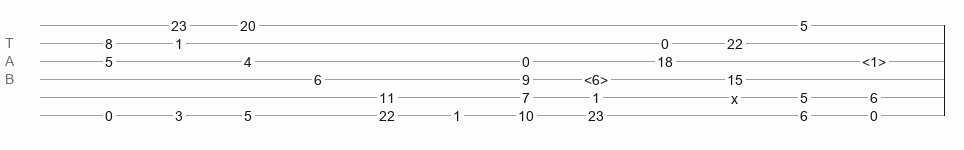0: (105, 108, 113, 118), (522, 54, 530, 64), (661, 36, 669, 46), (870, 108, 878, 118)
1: (175, 36, 183, 46), (453, 108, 461, 118), (592, 90, 600, 100)
10: (518, 108, 534, 118)
11: (379, 90, 395, 100)
15: (727, 72, 743, 82)
18: (657, 54, 673, 64)
20: (240, 18, 256, 28)
22: (379, 108, 395, 118), (727, 36, 743, 46)
23: (171, 18, 187, 28), (588, 108, 604, 118)
3: (175, 108, 183, 118)
4: (244, 54, 252, 64)
5: (105, 54, 113, 64), (244, 108, 252, 118), (800, 18, 808, 28), (800, 90, 808, 100)
6: (314, 72, 322, 82), (800, 108, 808, 118), (870, 90, 878, 100)
7: (522, 90, 530, 100)
8: (105, 36, 113, 46)
9: (522, 72, 530, 82)
harmonic: (584, 72, 608, 82), (862, 54, 886, 64)
x: (731, 91, 738, 99)
